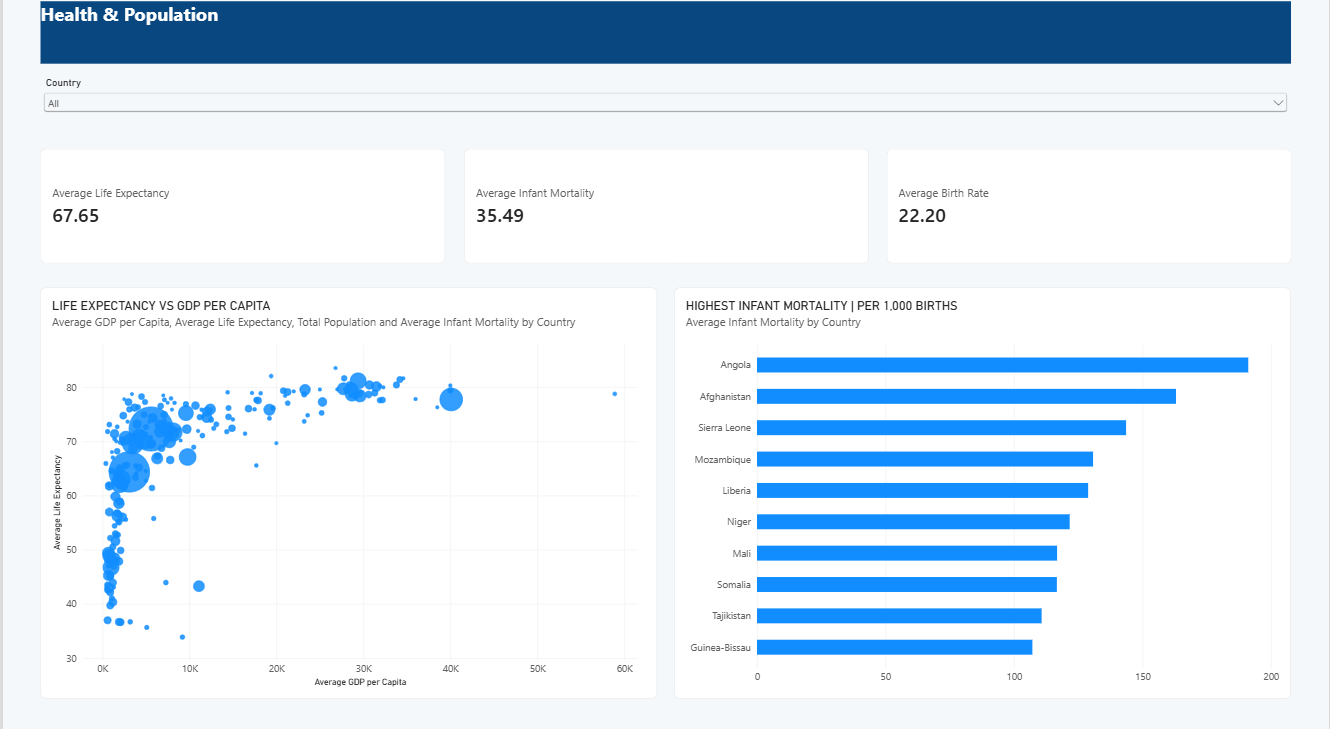

Layout of this report page (visuals, bound fields, positions):
{"tool":"powerbi","page":{"name":"Health & Population","canvas":[1920,1080],"ordinal":2},"visuals":[{"type":"cardVisual","fields":{"Data":["Country Data Comparison.Average Life Expectancy"]},"box":[55,230,586,166],"z":0},{"type":"cardVisual","fields":{"Data":["Country Data Comparison.Average Infant Mortality"]},"box":[667,230,586,166],"z":1000},{"type":"cardVisual","fields":{"Data":["Country Data Comparison.Average Birth Rate"]},"box":[1279,230,586,166],"z":2000},{"type":"scatterChart","title":"LIFE EXPECTANCY VS GDP PER CAPITA","fields":{"Category":["Country Data Comparison.Country"],"Size":["Country Data Comparison.Total Population"],"X":["Country Data Comparison.Average GDP per Capita"],"Y":["Country Data Comparison.Average Life Expectancy"]},"box":[55,430,893,595],"z":3000},{"type":"clusteredBarChart","title":"HIGHEST INFANT MORTALITY | PER 1,000 BIRTHS","fields":{"Category":["Country Data Comparison.Country"],"Y":["Country Data Comparison.Average Infant Mortality"]},"box":[972,430,893,595],"z":4000},{"type":"slicer","title":"HEALTH & POPULATION | COUNTRY FILTER","fields":{"Values":["Country Data Comparison.Country"]},"box":[55,125,1810,80],"z":5000},{"type":"textbox","box":[55,16,1810,90],"z":6000}]}

Visuals, with their boxes in screenshot pixels (x1, y1, x2, y2), scaled from the page's 1920x1080 canvas onto the 1330x729 screenshot:
cardVisual - Country Data Comparison.Average Life Expectancy: [38,155,444,267]
cardVisual - Country Data Comparison.Average Infant Mortality: [462,155,868,267]
cardVisual - Country Data Comparison.Average Birth Rate: [886,155,1292,267]
"LIFE EXPECTANCY VS GDP PER CAPITA" scatterChart: [38,290,657,692]
"HIGHEST INFANT MORTALITY | PER 1,000 BIRTHS" clusteredBarChart: [673,290,1292,692]
"HEALTH & POPULATION | COUNTRY FILTER" slicer: [38,84,1292,138]
textbox: [38,11,1292,72]
